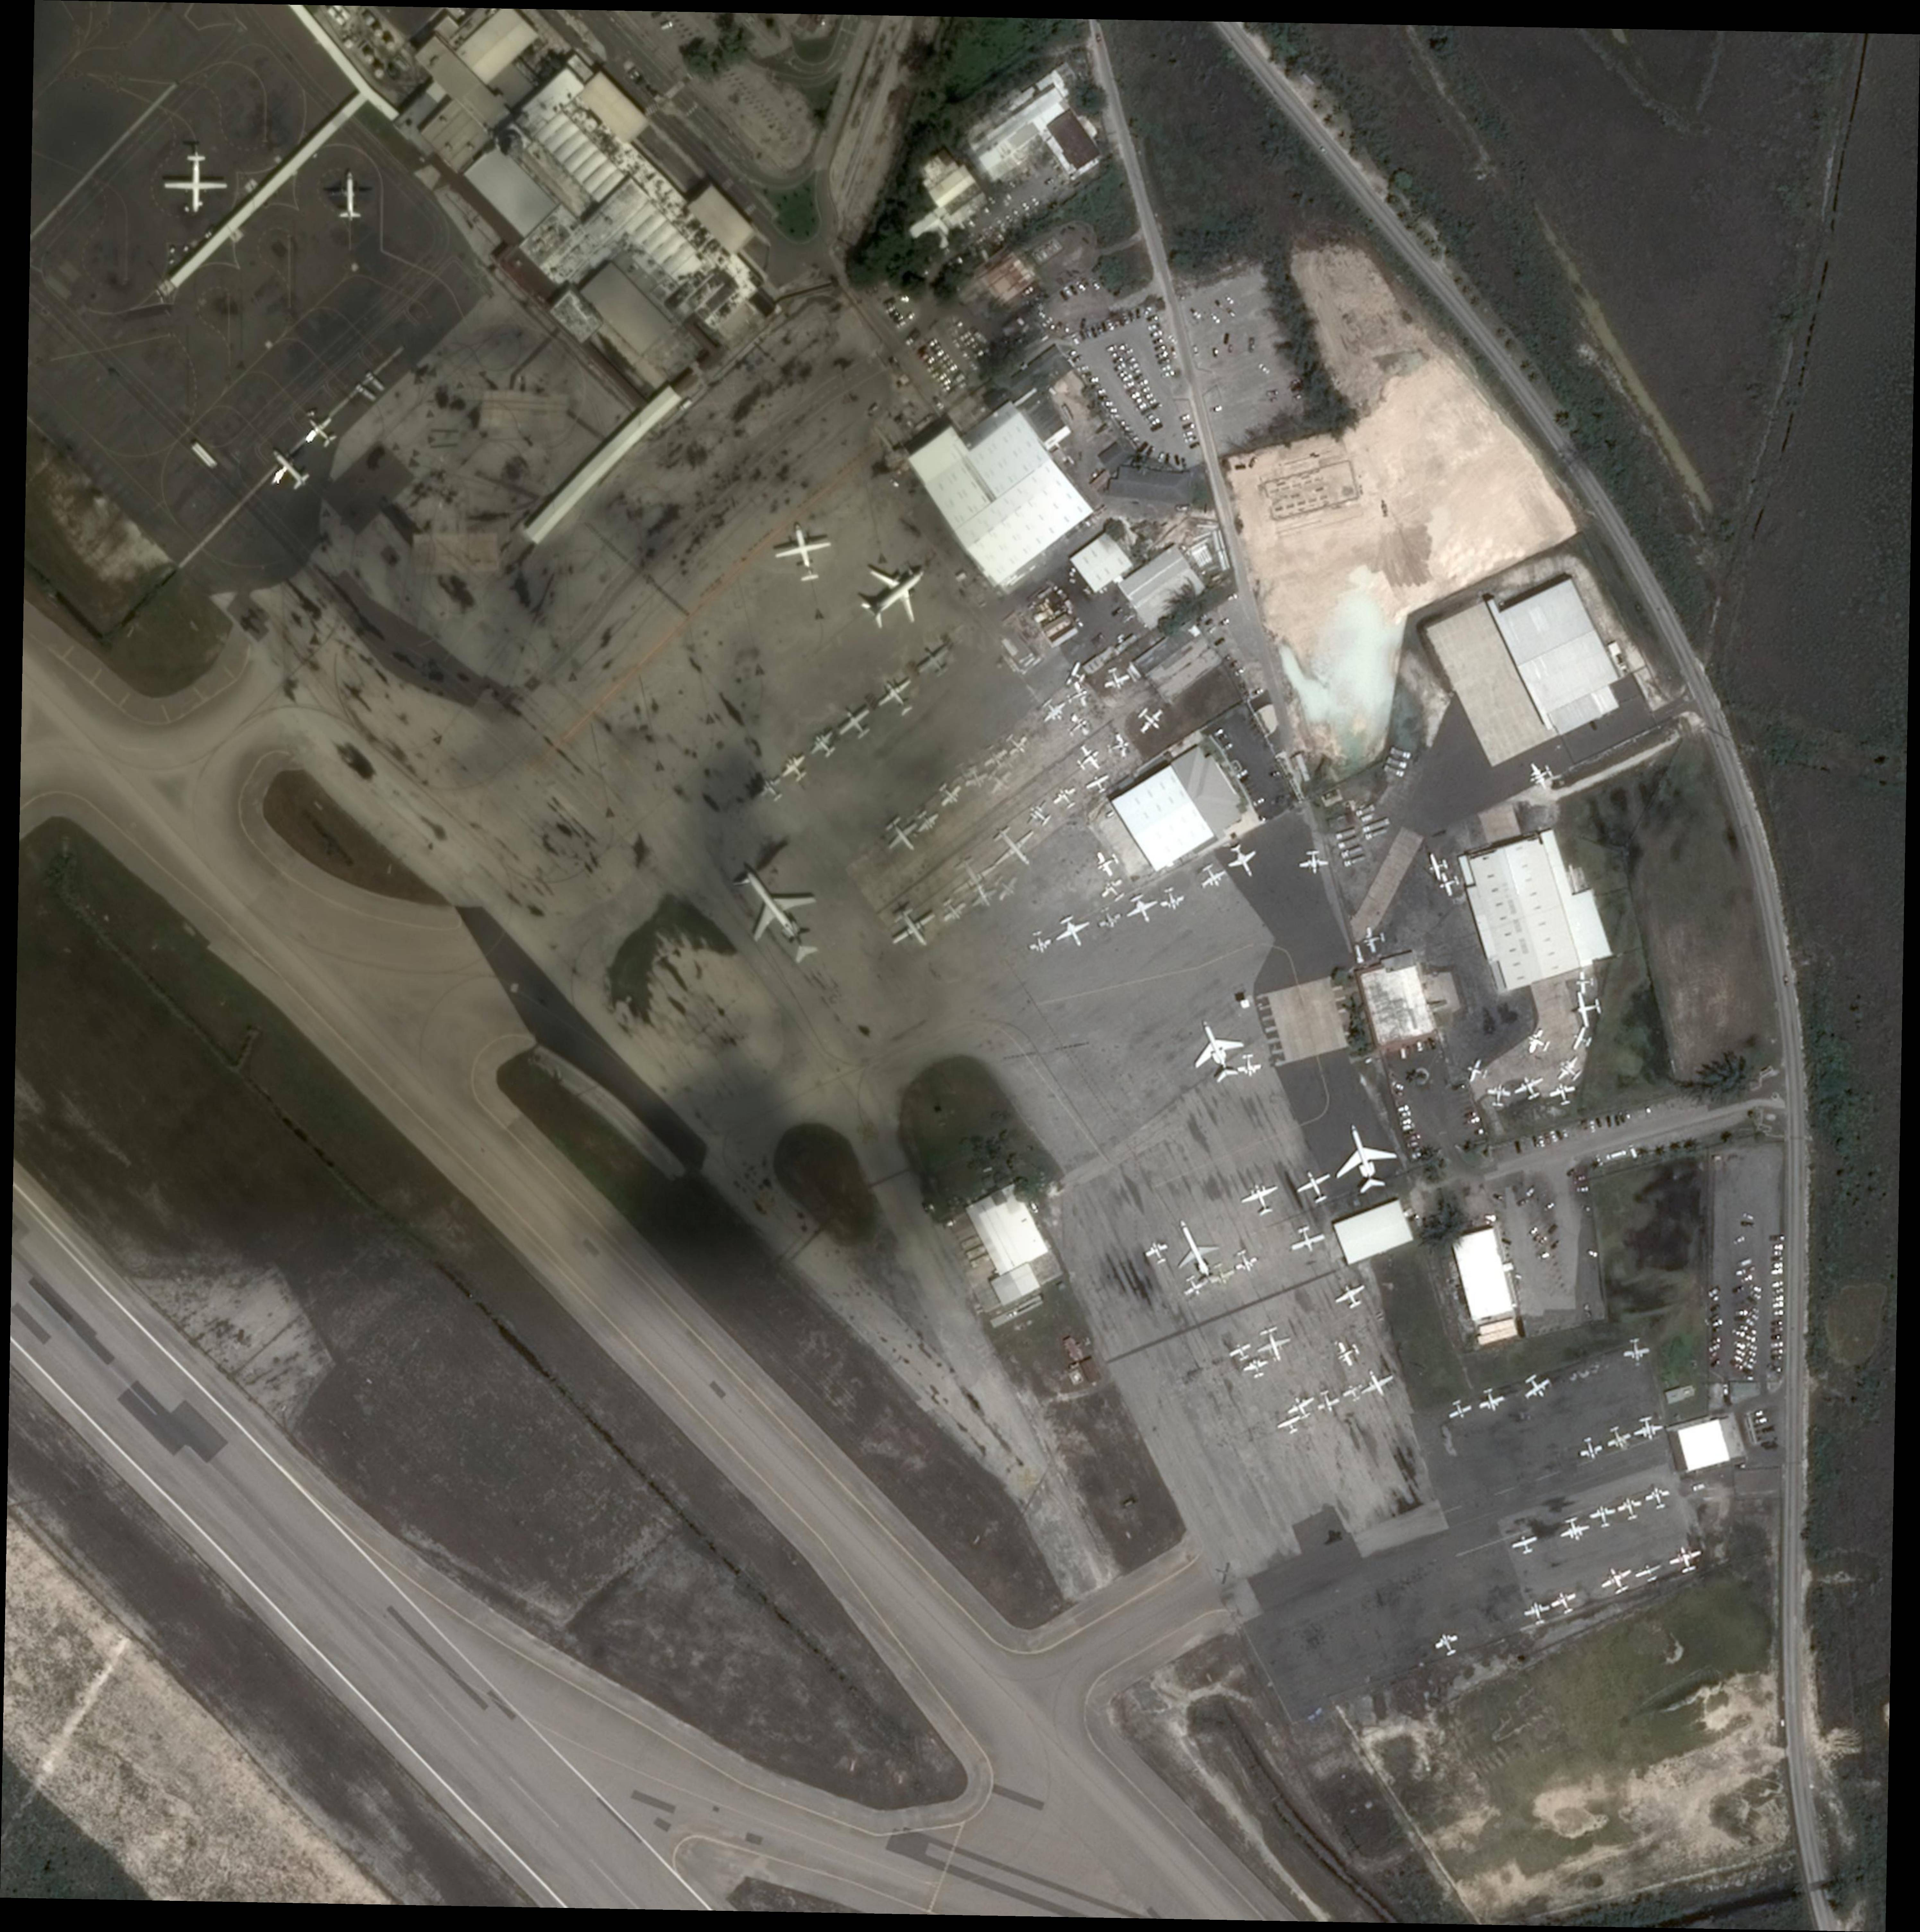large vehicle: (1363, 818, 1390, 833), (1341, 846, 1363, 860), (1338, 836, 1360, 850), (1365, 828, 1387, 841), (1344, 855, 1366, 867), (1335, 828, 1356, 840), (1391, 747, 1412, 759), (1356, 804, 1375, 817), (1384, 765, 1403, 777), (1388, 757, 1406, 769)
plane: (718, 844, 841, 977), (845, 545, 944, 642), (1320, 1116, 1405, 1199), (1180, 1011, 1253, 1089), (1162, 1211, 1230, 1292), (770, 518, 838, 586), (982, 816, 1049, 880), (257, 437, 321, 500), (164, 152, 229, 214), (883, 899, 946, 959), (943, 848, 1003, 903), (325, 166, 374, 221), (871, 672, 924, 722), (878, 811, 927, 861), (831, 700, 878, 746), (1290, 1164, 1339, 1208), (1051, 910, 1097, 954), (911, 639, 956, 683), (1351, 1362, 1399, 1404), (299, 409, 343, 454), (1237, 1179, 1285, 1220), (1221, 840, 1265, 883), (1251, 1325, 1296, 1366), (1122, 890, 1163, 929), (1517, 1368, 1556, 1407), (1285, 1223, 1328, 1258), (1131, 701, 1169, 739), (1597, 1562, 1638, 1598), (804, 726, 842, 764), (1331, 1278, 1371, 1314), (777, 750, 814, 787), (1071, 740, 1107, 778), (982, 764, 1020, 799), (1665, 1543, 1706, 1576), (1552, 1050, 1588, 1086), (931, 777, 967, 812), (1571, 989, 1604, 1027), (1036, 693, 1071, 728), (755, 772, 790, 807), (935, 892, 971, 927), (1525, 757, 1558, 793), (1521, 1024, 1555, 1059), (1511, 1072, 1548, 1104), (989, 869, 1023, 903), (1284, 1391, 1320, 1423), (1196, 859, 1231, 892), (1025, 796, 1057, 831), (967, 880, 1001, 912), (1556, 1514, 1593, 1544), (1097, 873, 1130, 906), (1091, 847, 1123, 880), (1061, 710, 1094, 743), (979, 741, 1012, 773), (1141, 1236, 1174, 1267), (1000, 728, 1033, 759), (1602, 1422, 1635, 1453), (1475, 1385, 1509, 1416), (1521, 1597, 1554, 1628), (1333, 1336, 1364, 1369), (1178, 1271, 1212, 1300), (912, 805, 944, 836), (1050, 783, 1083, 814), (1549, 1588, 1582, 1618), (1614, 1493, 1646, 1523), (1431, 1629, 1463, 1659), (1587, 1501, 1619, 1530), (1205, 1260, 1238, 1288), (1631, 1415, 1665, 1443), (1104, 730, 1134, 762), (1101, 665, 1133, 693), (1231, 1246, 1262, 1275), (961, 762, 992, 791), (1063, 680, 1093, 711), (1567, 1023, 1596, 1055), (1024, 929, 1056, 956), (1633, 1559, 1667, 1585), (1061, 659, 1090, 690), (1463, 1056, 1492, 1086), (1094, 904, 1125, 933), (1509, 1531, 1542, 1558), (1642, 1485, 1674, 1513), (1576, 1435, 1606, 1463), (1156, 885, 1187, 913), (1083, 770, 1114, 797), (1211, 1560, 1241, 1588), (1547, 1082, 1579, 1107), (1274, 1412, 1305, 1438), (1361, 925, 1387, 955), (1226, 1338, 1256, 1365), (1444, 1397, 1475, 1423), (948, 759, 977, 787), (1425, 852, 1452, 881), (1622, 1337, 1652, 1362), (1314, 1389, 1343, 1415), (1241, 1356, 1272, 1380), (1437, 870, 1463, 899), (1299, 850, 1329, 874), (1486, 1082, 1513, 1107), (1341, 1380, 1368, 1405), (1236, 1053, 1262, 1078), (1575, 971, 1595, 993)
